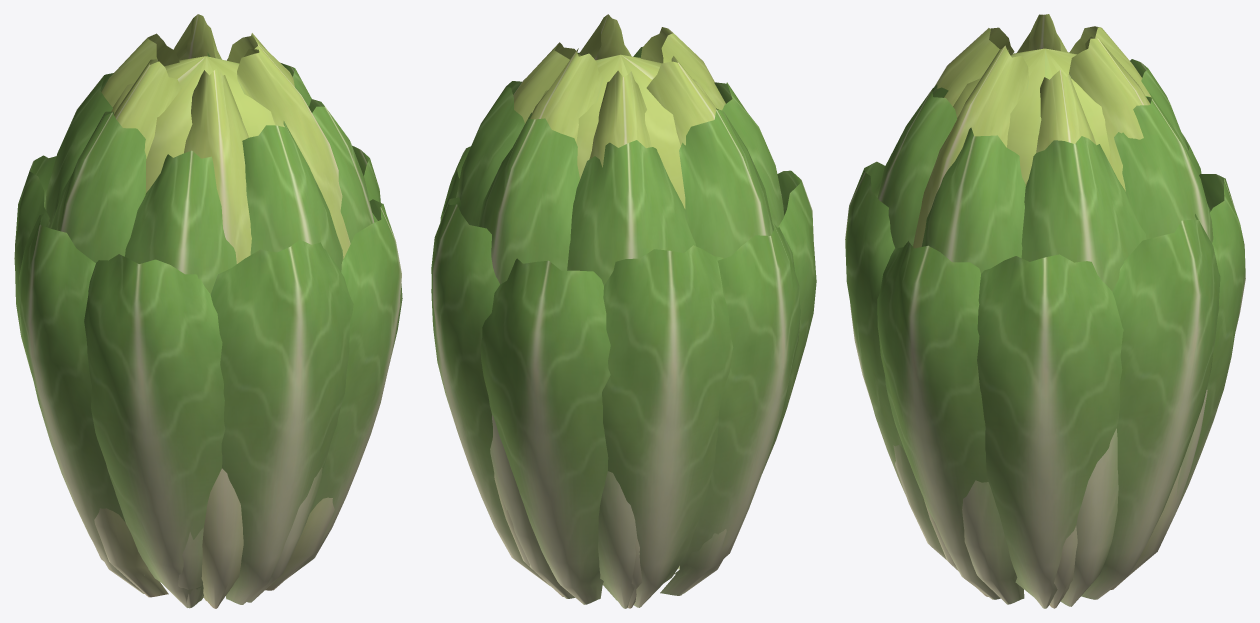
3 views of the same model, side by side, from view 1: azimuth 30°, elevation 25°; view 2: azimuth 150°, elevation 25°; view 3: azimuth 270°, elevation 25° (orthographic).
Visible parts, largest first — view 1: cabbage; view 2: cabbage; view 3: cabbage.
Part boxes in pixels (<box>): cabbage: <box>14,14,402,608</box>; cabbage: <box>431,14,816,608</box>; cabbage: <box>845,14,1245,608</box>.
Size of the model in its own units: 0.1848 by 0.28 by 0.1854.
1 material, 1 textured.
